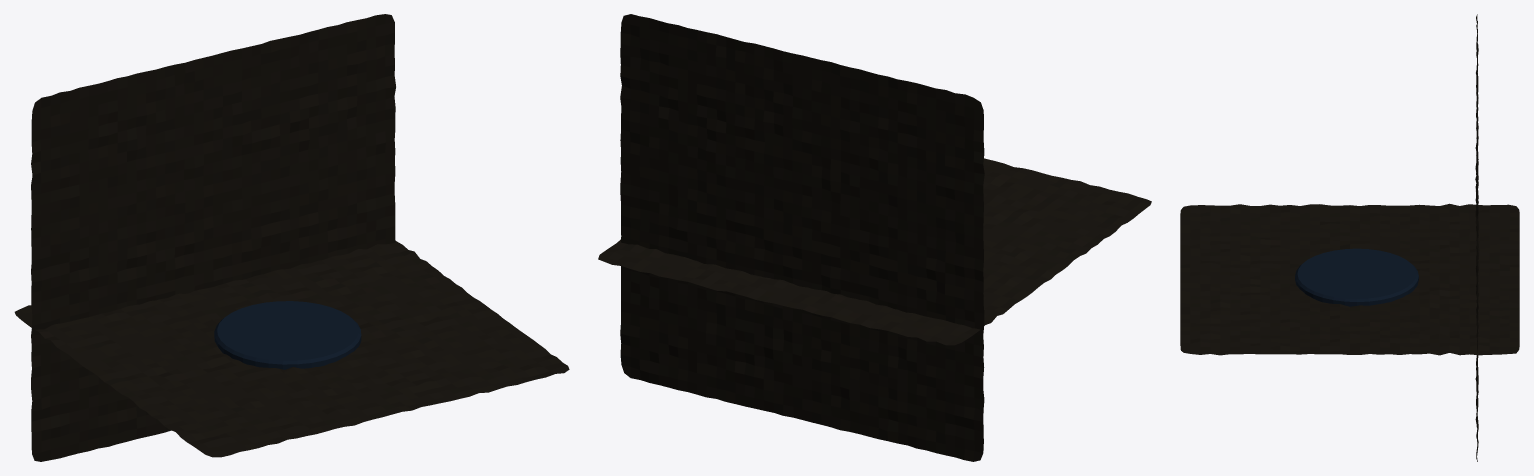
File: background_plane.glb
3 views of the same model, side by side, from view 1: azimuth 30°, elevation 25°; view 2: azimuth 150°, elevation 25°; view 3: azimuth 270°, elevation 25° (orthographic). The views are drawn at different scales.
Parts seen in each view (by area): view 1: scene.004, scene.002, Cylinder; view 2: scene.004, scene.002; view 3: scene.002, Cylinder, scene.004.
Boxes of the visible parts, box(x1,y1,x2,y2) form: scene.004: box(31, 14, 395, 461); scene.002: box(14, 240, 569, 457); Cylinder: box(214, 301, 361, 369); scene.004: box(620, 14, 984, 461); scene.002: box(598, 158, 1151, 345); scene.002: box(1180, 203, 1519, 355); Cylinder: box(1295, 248, 1418, 306); scene.004: box(1475, 14, 1478, 461).
Size of the model in its own units: 21.99 by 20.95 by 20.95.
